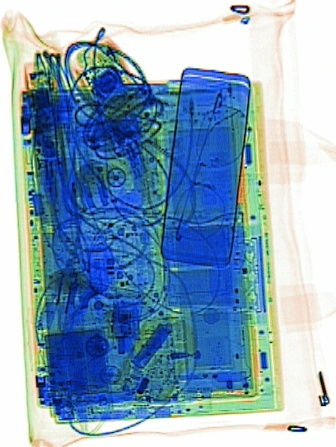powerbank: (42, 314, 115, 424)
